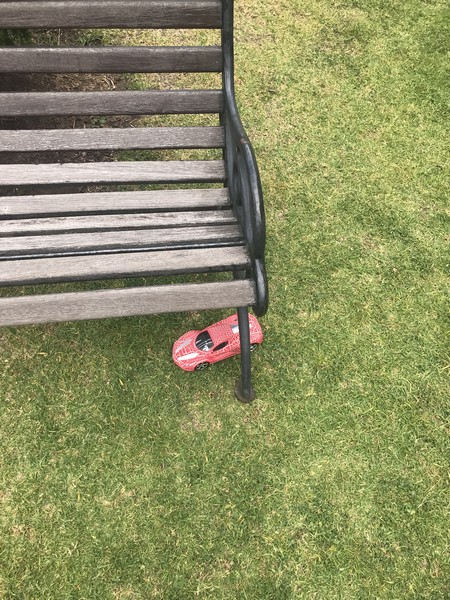RC: (171, 312, 263, 373)
